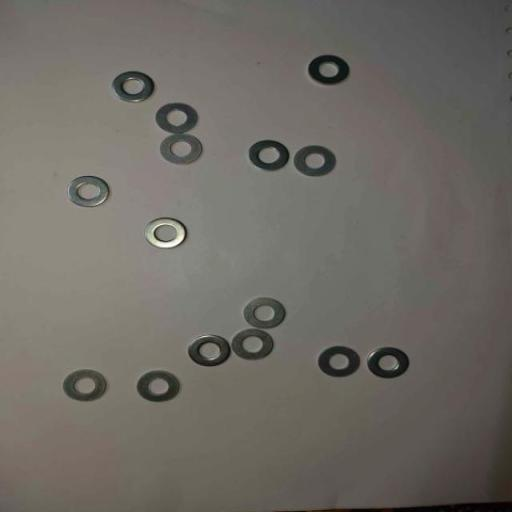Washer: (136, 369, 182, 404), (62, 368, 108, 402), (247, 138, 291, 173), (292, 144, 337, 178), (143, 216, 188, 250), (242, 296, 287, 330), (230, 327, 275, 361), (186, 334, 231, 368), (366, 346, 411, 380), (154, 101, 199, 134), (316, 345, 361, 378), (307, 53, 351, 86), (111, 70, 155, 103), (159, 132, 203, 165), (67, 175, 111, 208)
